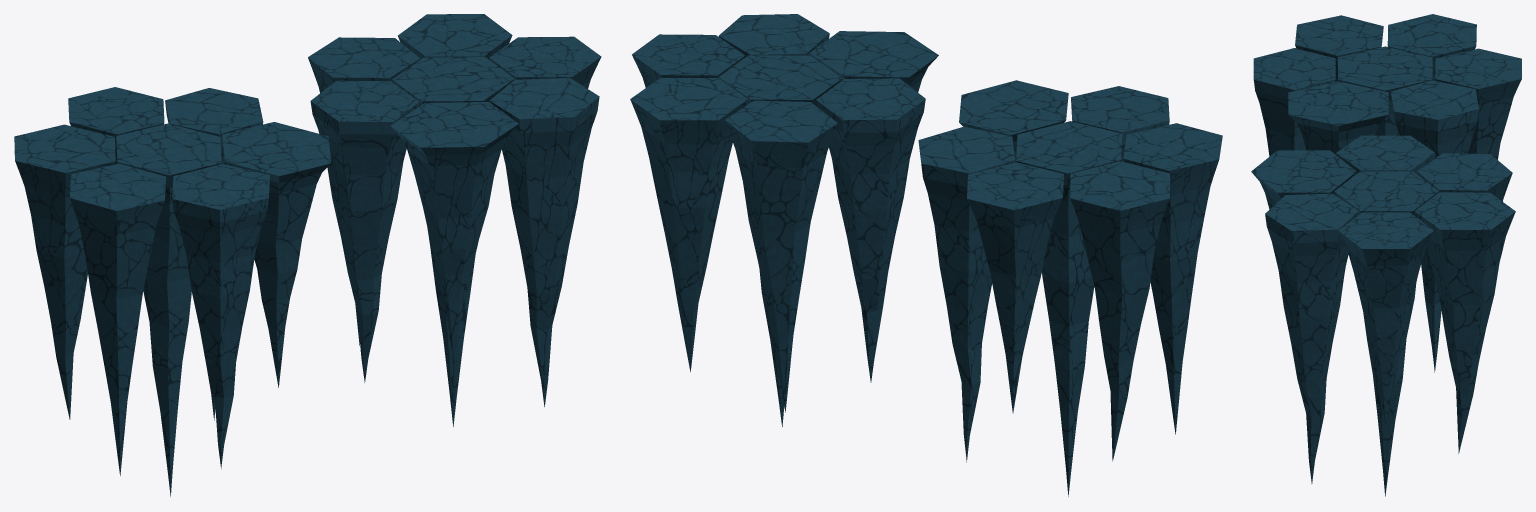
The model's file is plat_Arco.fbx.
The picture shows the model from 3 angles, left to right: view 1: azimuth 30°, elevation 25°; view 2: azimuth 150°, elevation 25°; view 3: azimuth 270°, elevation 25°; orthographic projection. The views are drawn at different scales.
Visible parts, largest first — view 1: Circle.001; view 2: Circle.001; view 3: Circle.001.
Boxes of the visible parts, bbox=[...] form: Circle.001: bbox=[14, 14, 601, 496]; Circle.001: bbox=[630, 14, 1222, 496]; Circle.001: bbox=[1251, 14, 1521, 496].
Bounding box in the file's own units: 32.56 × 19.83 × 15.86.
1 material, 1 textured.
